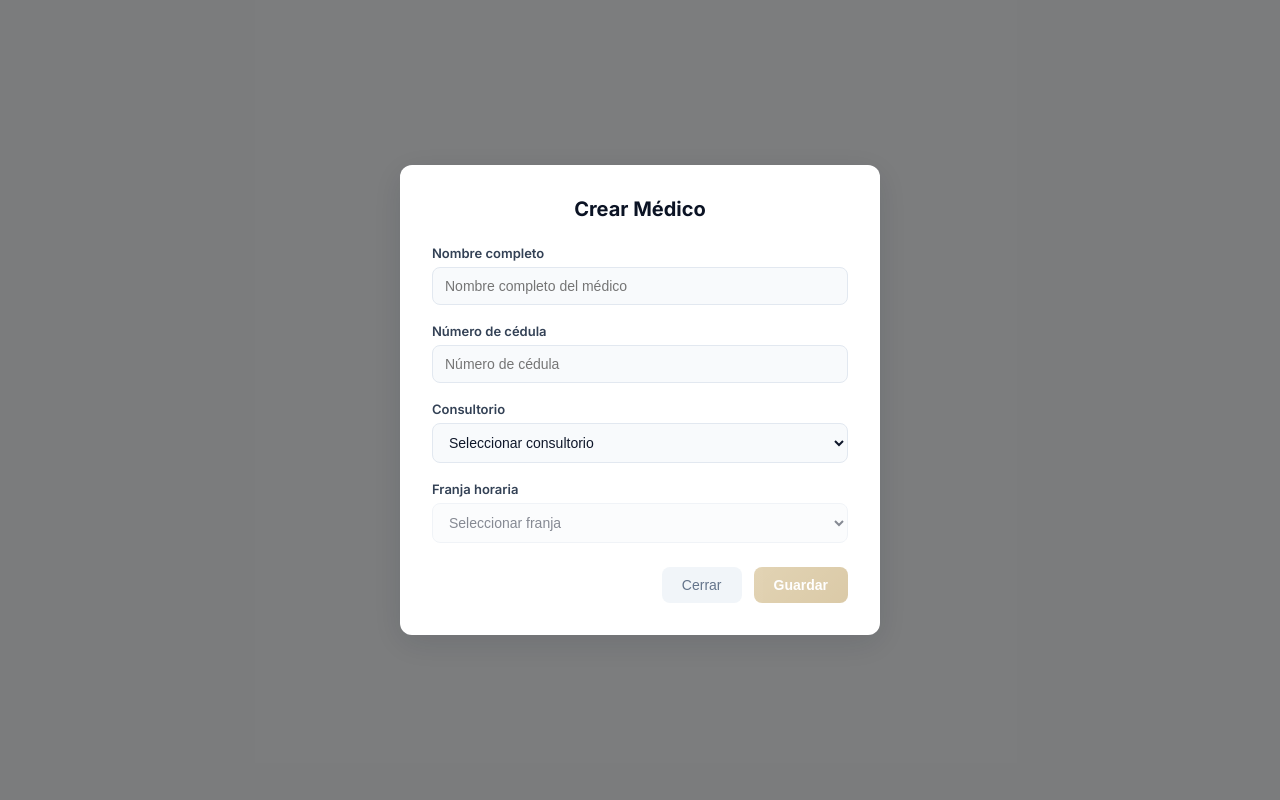
DoctorFormModal › Guardar becomes enabled when nombre and cedula are valid
Type "Dr. Juan García" into the field labelled "Nombre completo". click: (640, 286)
box: [432,267,848,305]
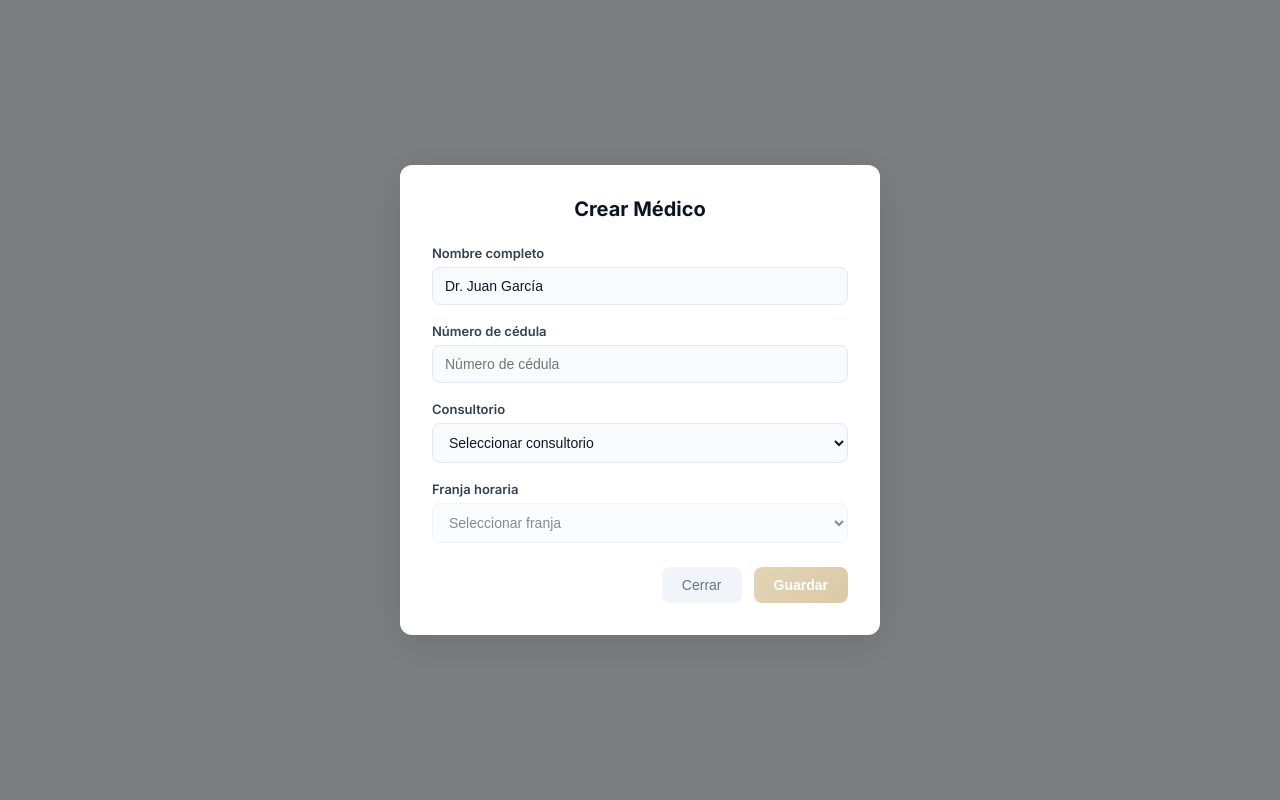
Type "12345678" into the field labelled "Número de cédula". click: (640, 364)
box: [432,345,848,383]
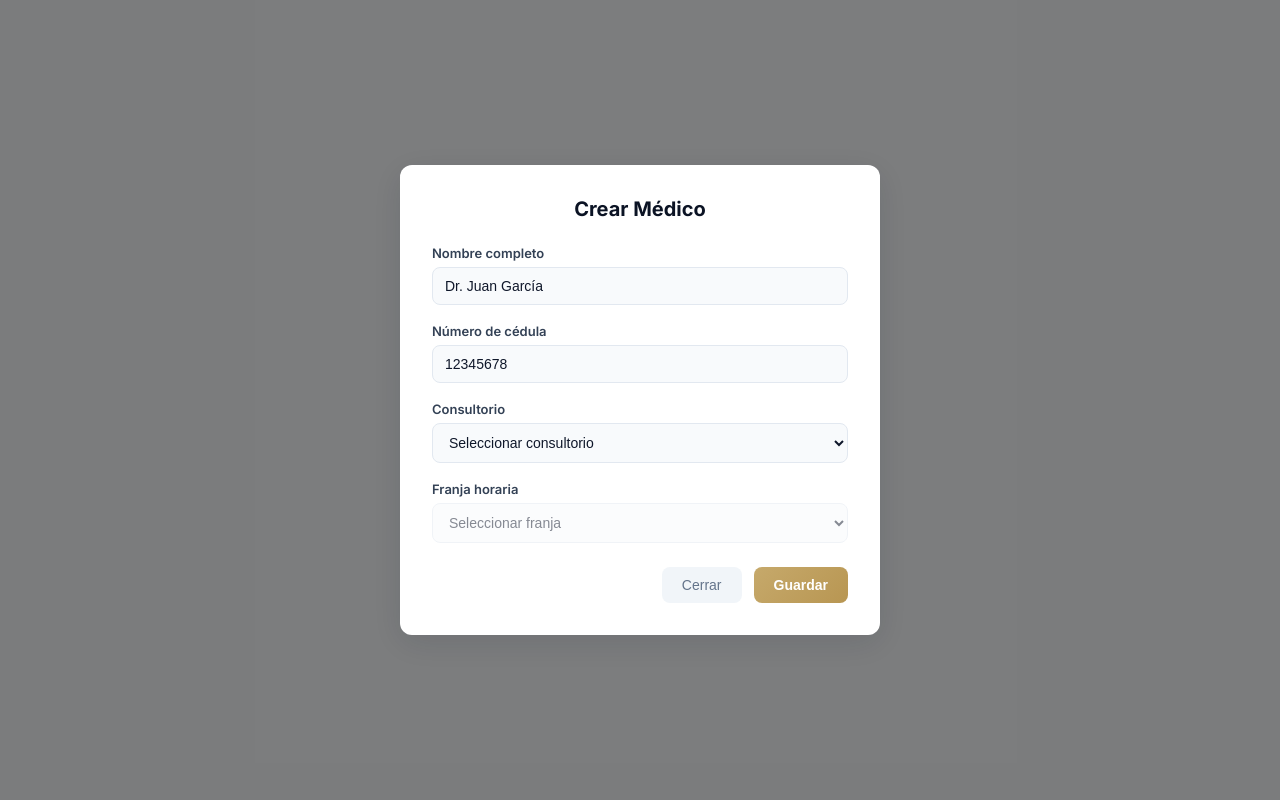
Now the button "Guardar" is enabled, box [754,567,848,603]
